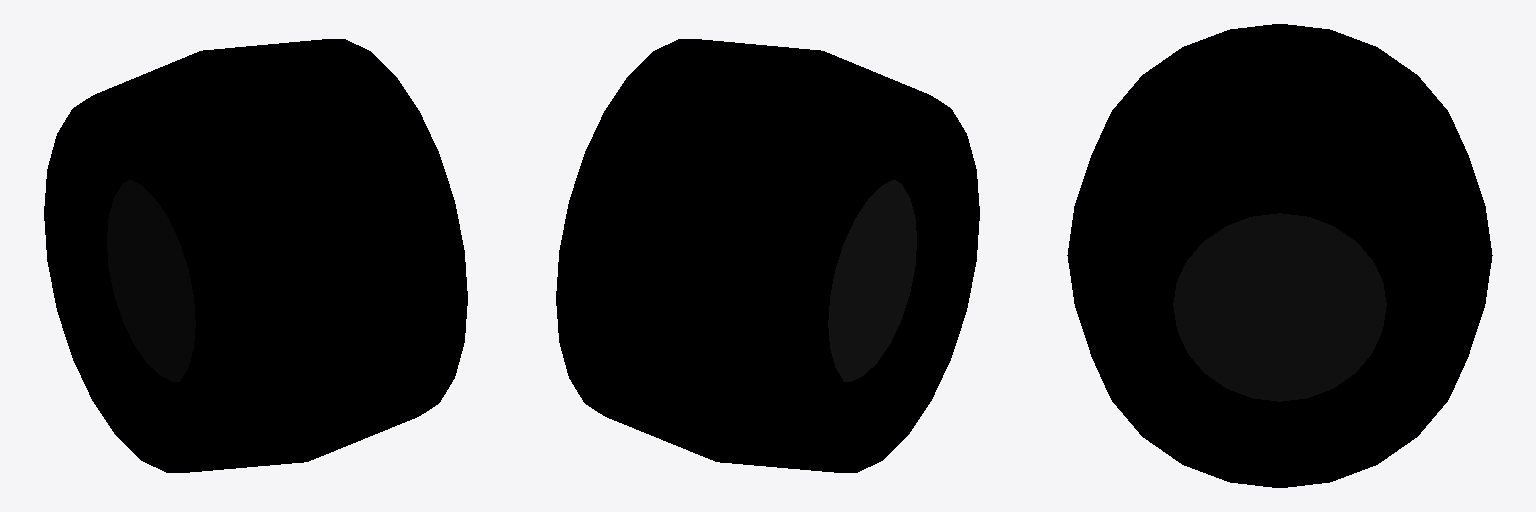
The model's file is wheel01.obj.
3 views of the same model, side by side, from view 1: azimuth 30°, elevation 25°; view 2: azimuth 150°, elevation 25°; view 3: azimuth 270°, elevation 25° (orthographic).
Bounding box in the file's own units: 1.28 × 1.82 × 1.82.